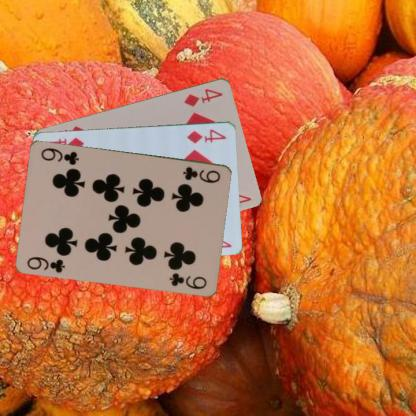4d: (182, 86, 224, 108), (184, 126, 228, 144)
9c: (24, 254, 67, 274), (180, 164, 222, 184)
